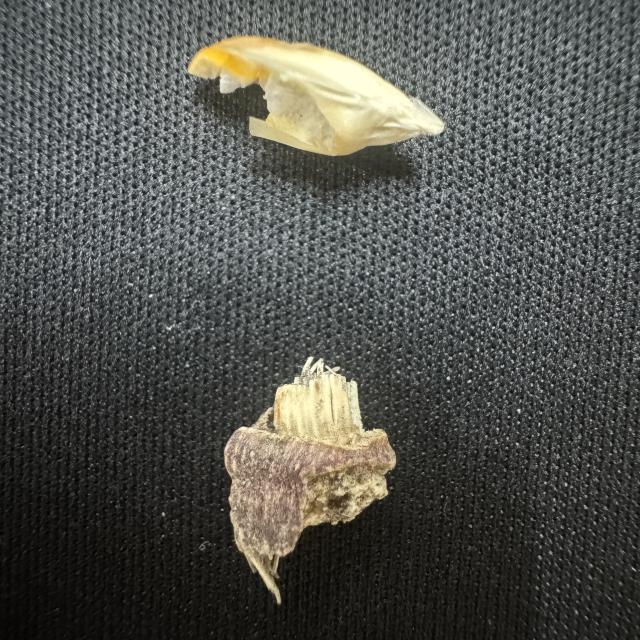Bad-Seed: (217, 350, 402, 606), (182, 31, 454, 161)
